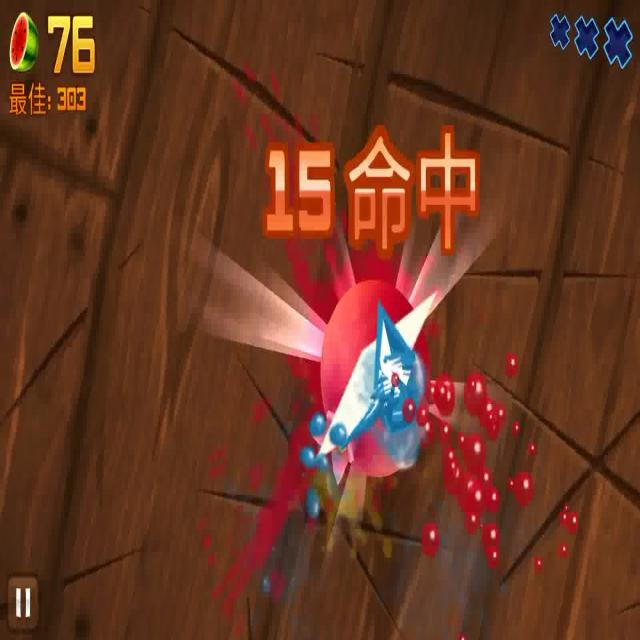fruit: (319, 292, 429, 467)
